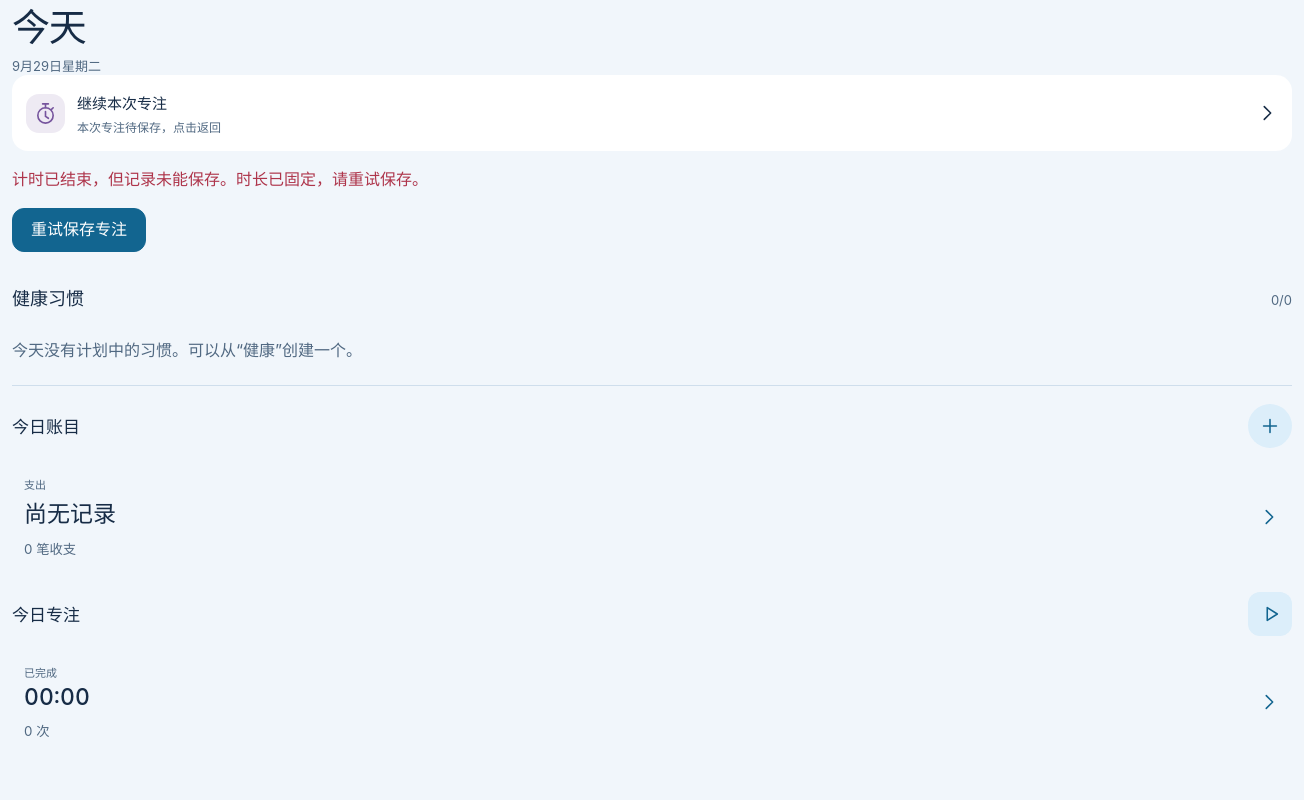
focus completion recovery › recovers an expired session on today without changing its endpoint
The image size is (1304, 800).
Expected: the message shows "时长已固定", [12, 169, 428, 189]
What coordinates should you click on to do the following:
click the button "重试保存专注"
I would click on:
 (79, 230)
Its box is [12, 208, 146, 252].
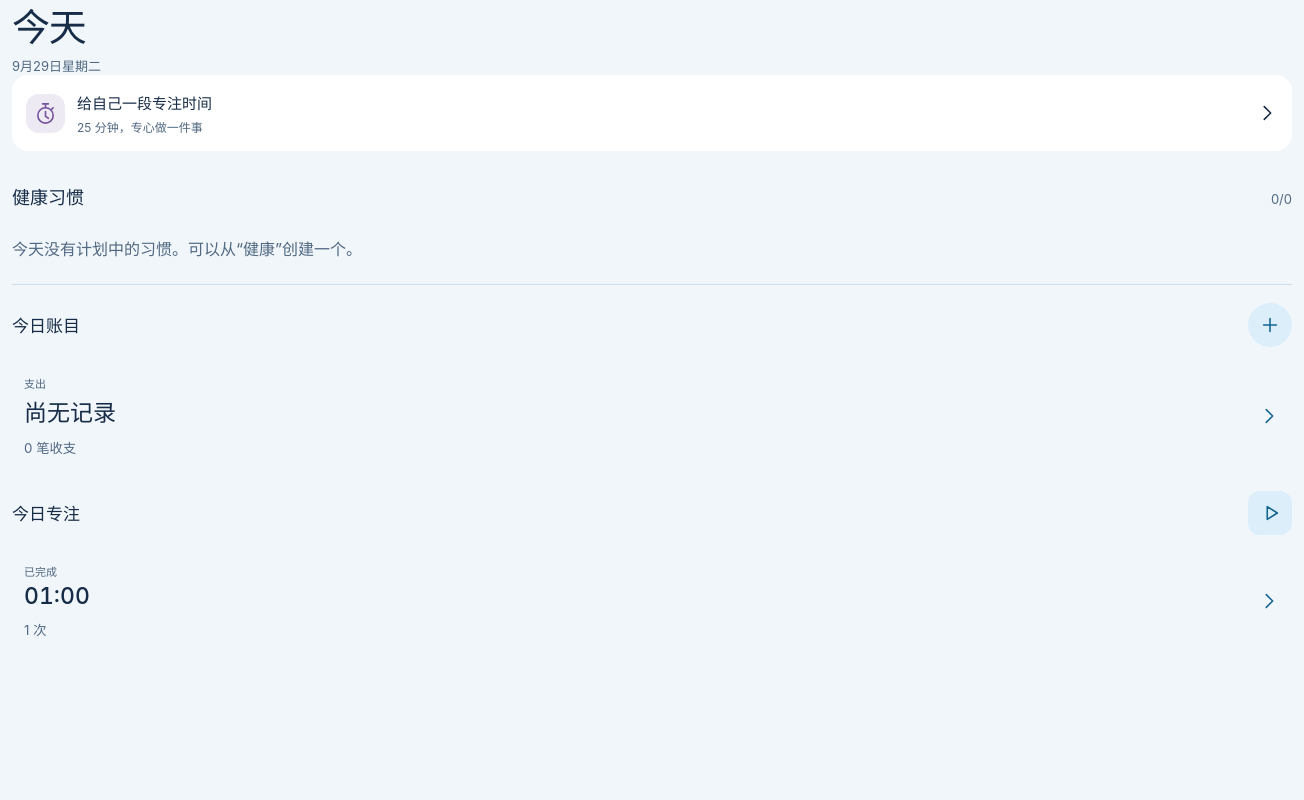
Expected: the message "计时已结束，但记录未能保存。时长已固定，请重试保存。 重试保存专注" is gone
